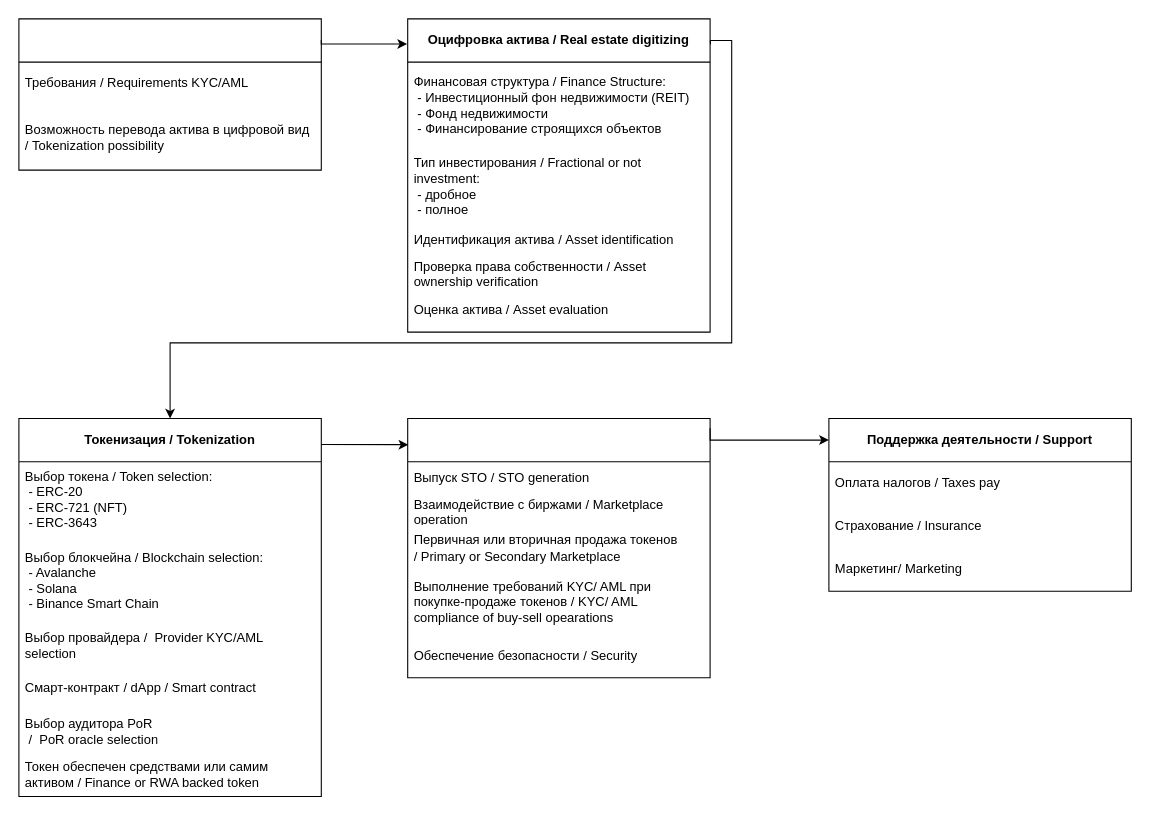
Image size: 1150x815. Some labels were removed from this diagram. The box of each missing label's shape, as (x1, y1, x2, y2) in pixels:
Распространение / Distribution: (407, 417, 710, 678)
Юрисдикция / Jurisdiction: (18, 18, 321, 170)
